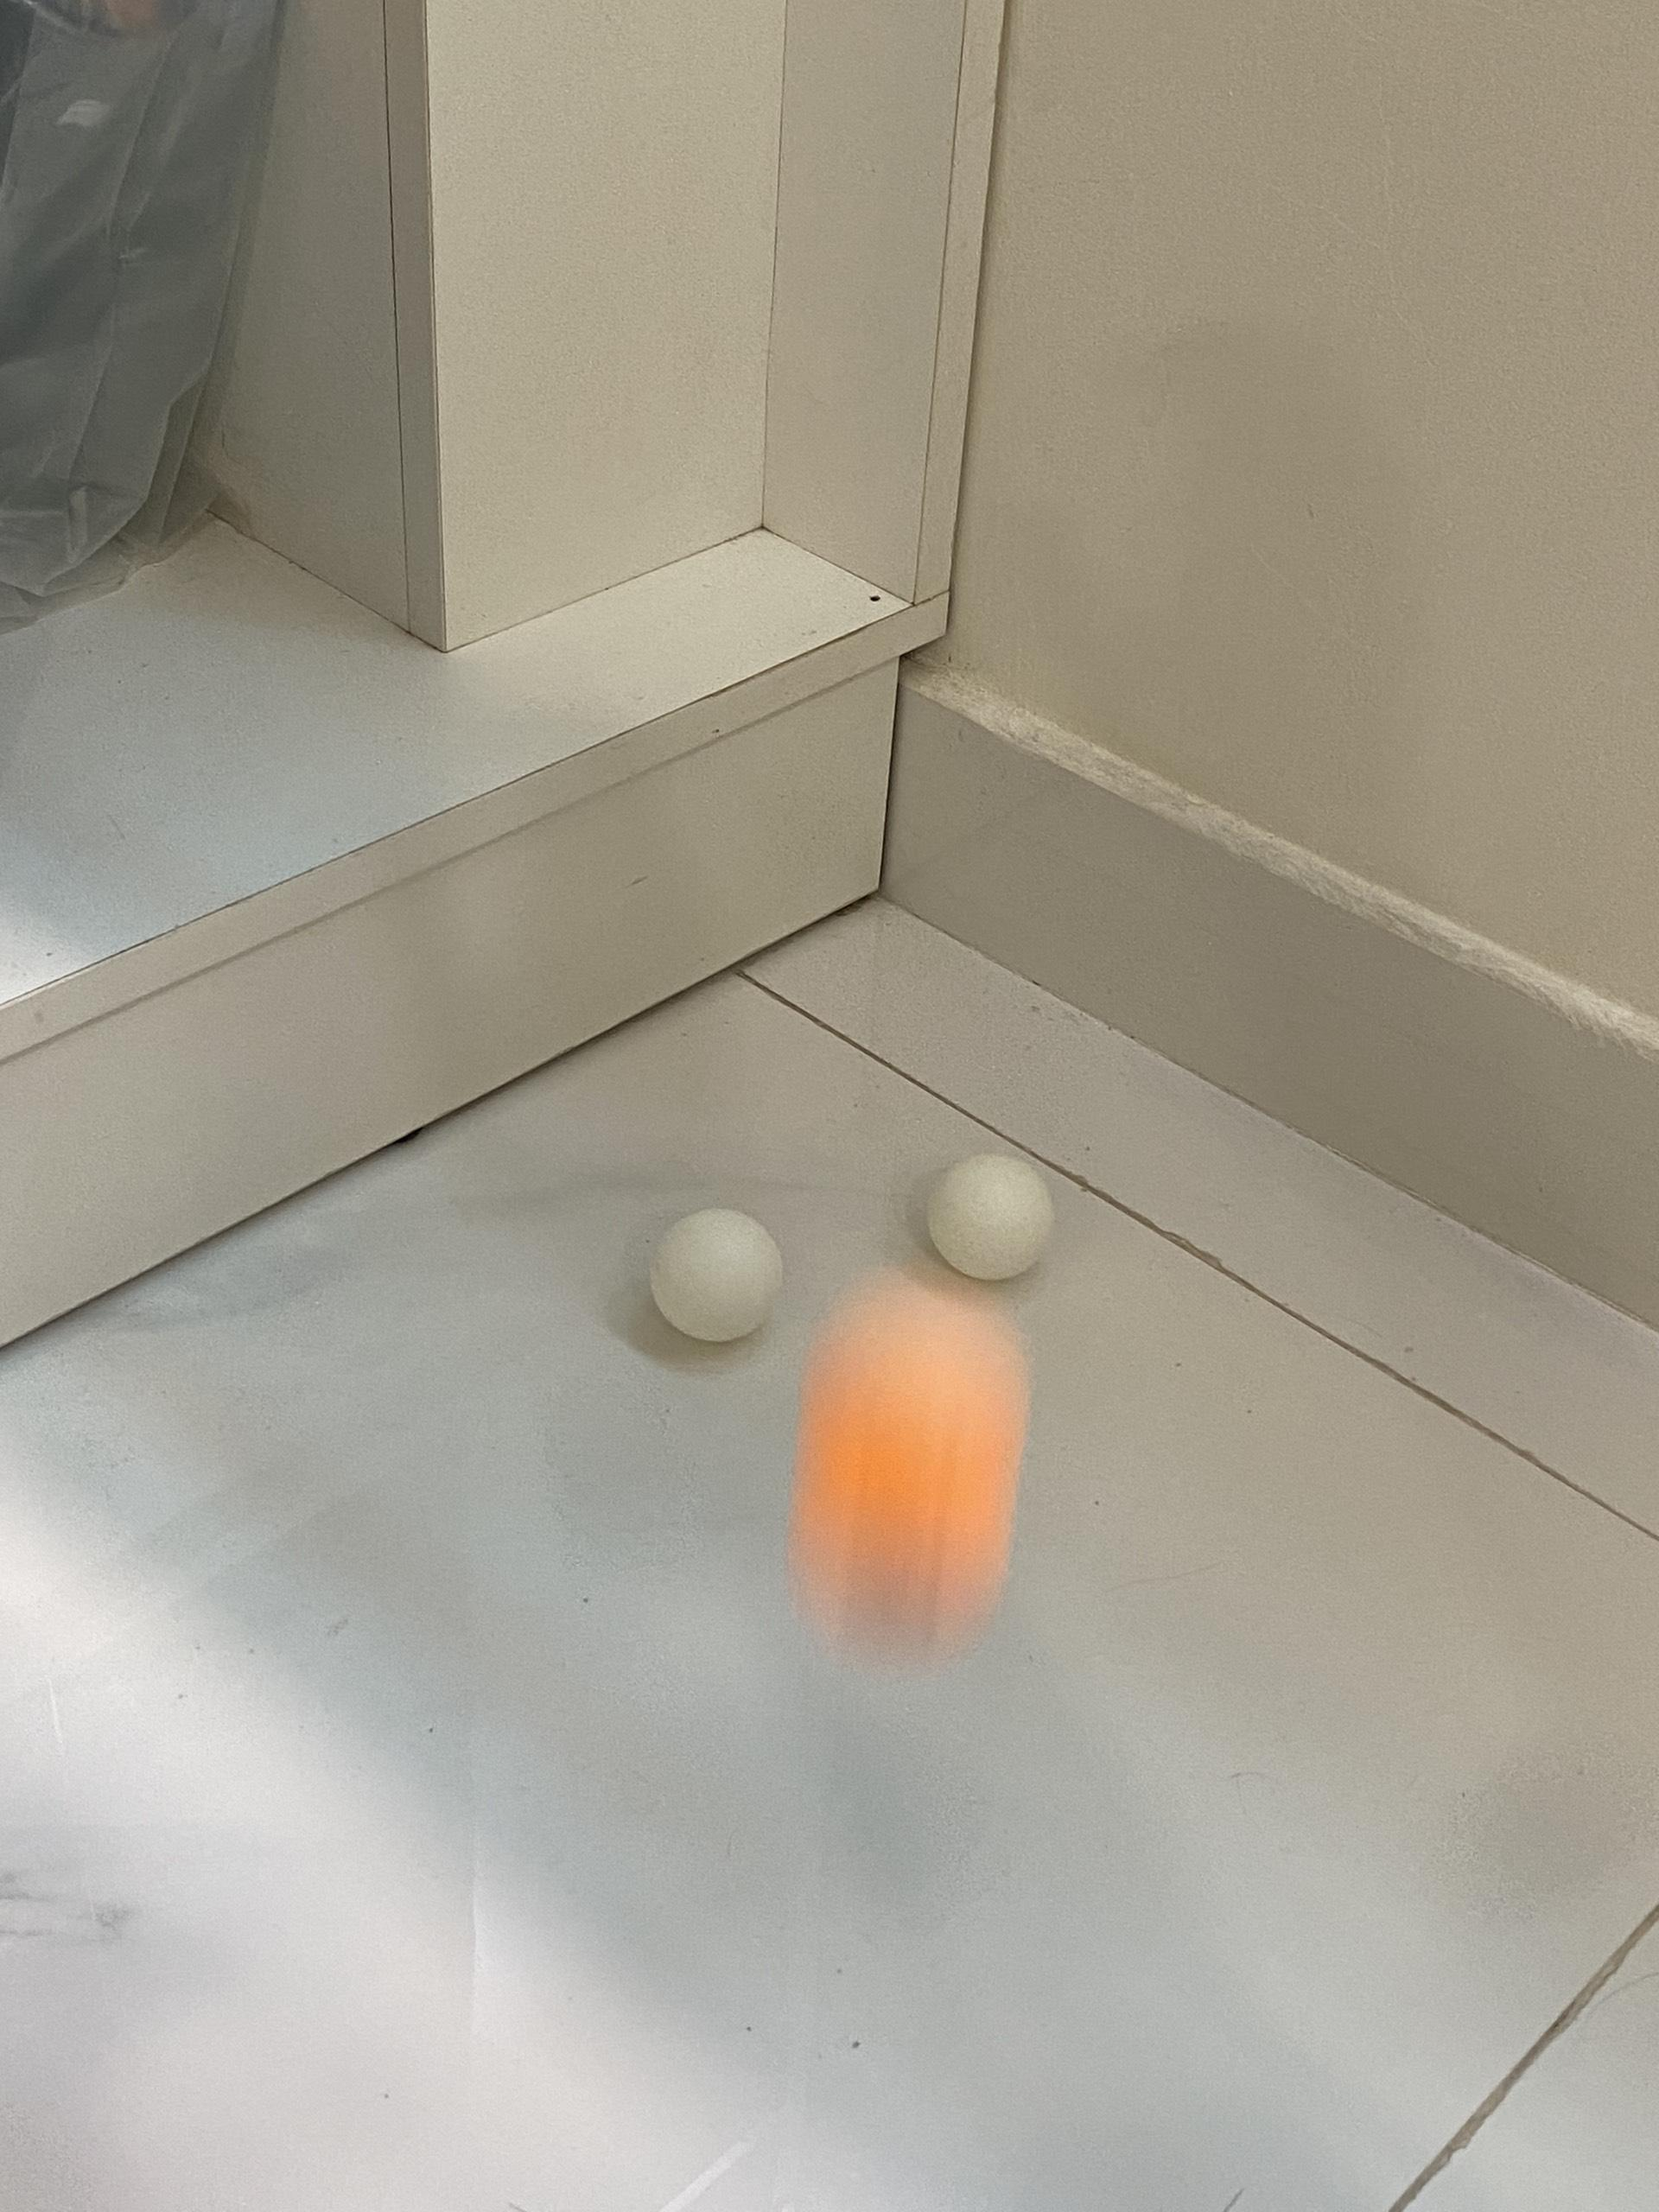oball: (824, 1336, 1016, 1627), (657, 1212, 784, 1343), (931, 1155, 1058, 1278)
